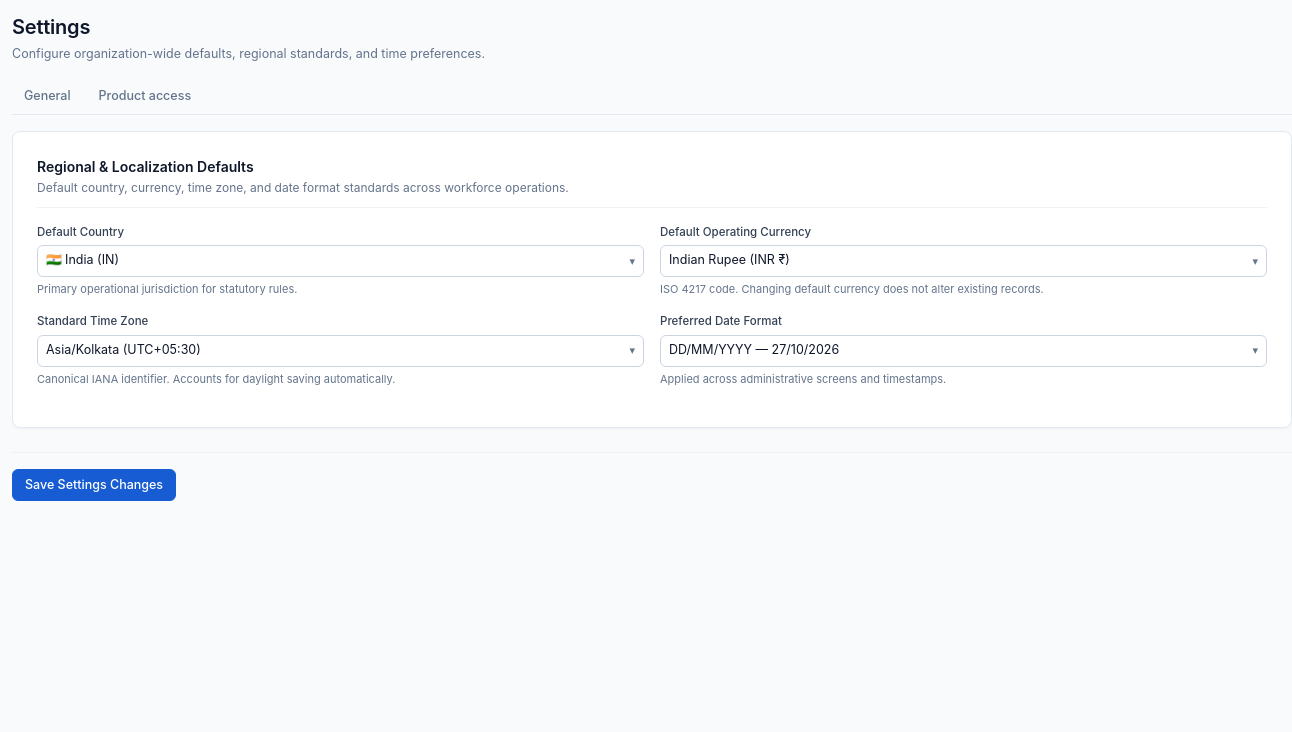
AdminPage - Organization Settings Form › submits updated organization settings with canonical identifiers
expect the heading "Regional & Localization Defaults" is shown: met, box x1=37 y1=158 x2=254 y2=174
// Submit form
Click the button "Save Settings Changes" at (94,485), box x1=12 y1=469 x2=176 y2=501
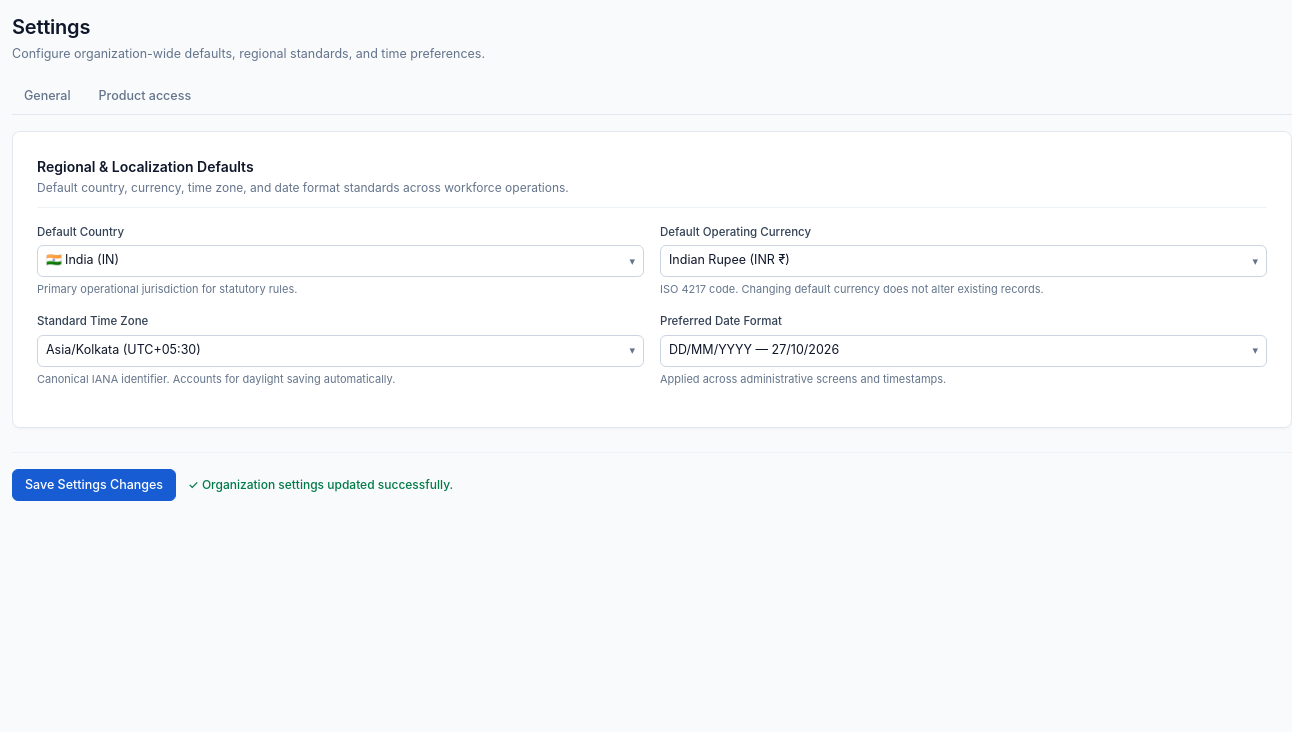
expect the text "✓ Organization settings updated successfully." is shown: met, box x1=188 y1=476 x2=453 y2=494
